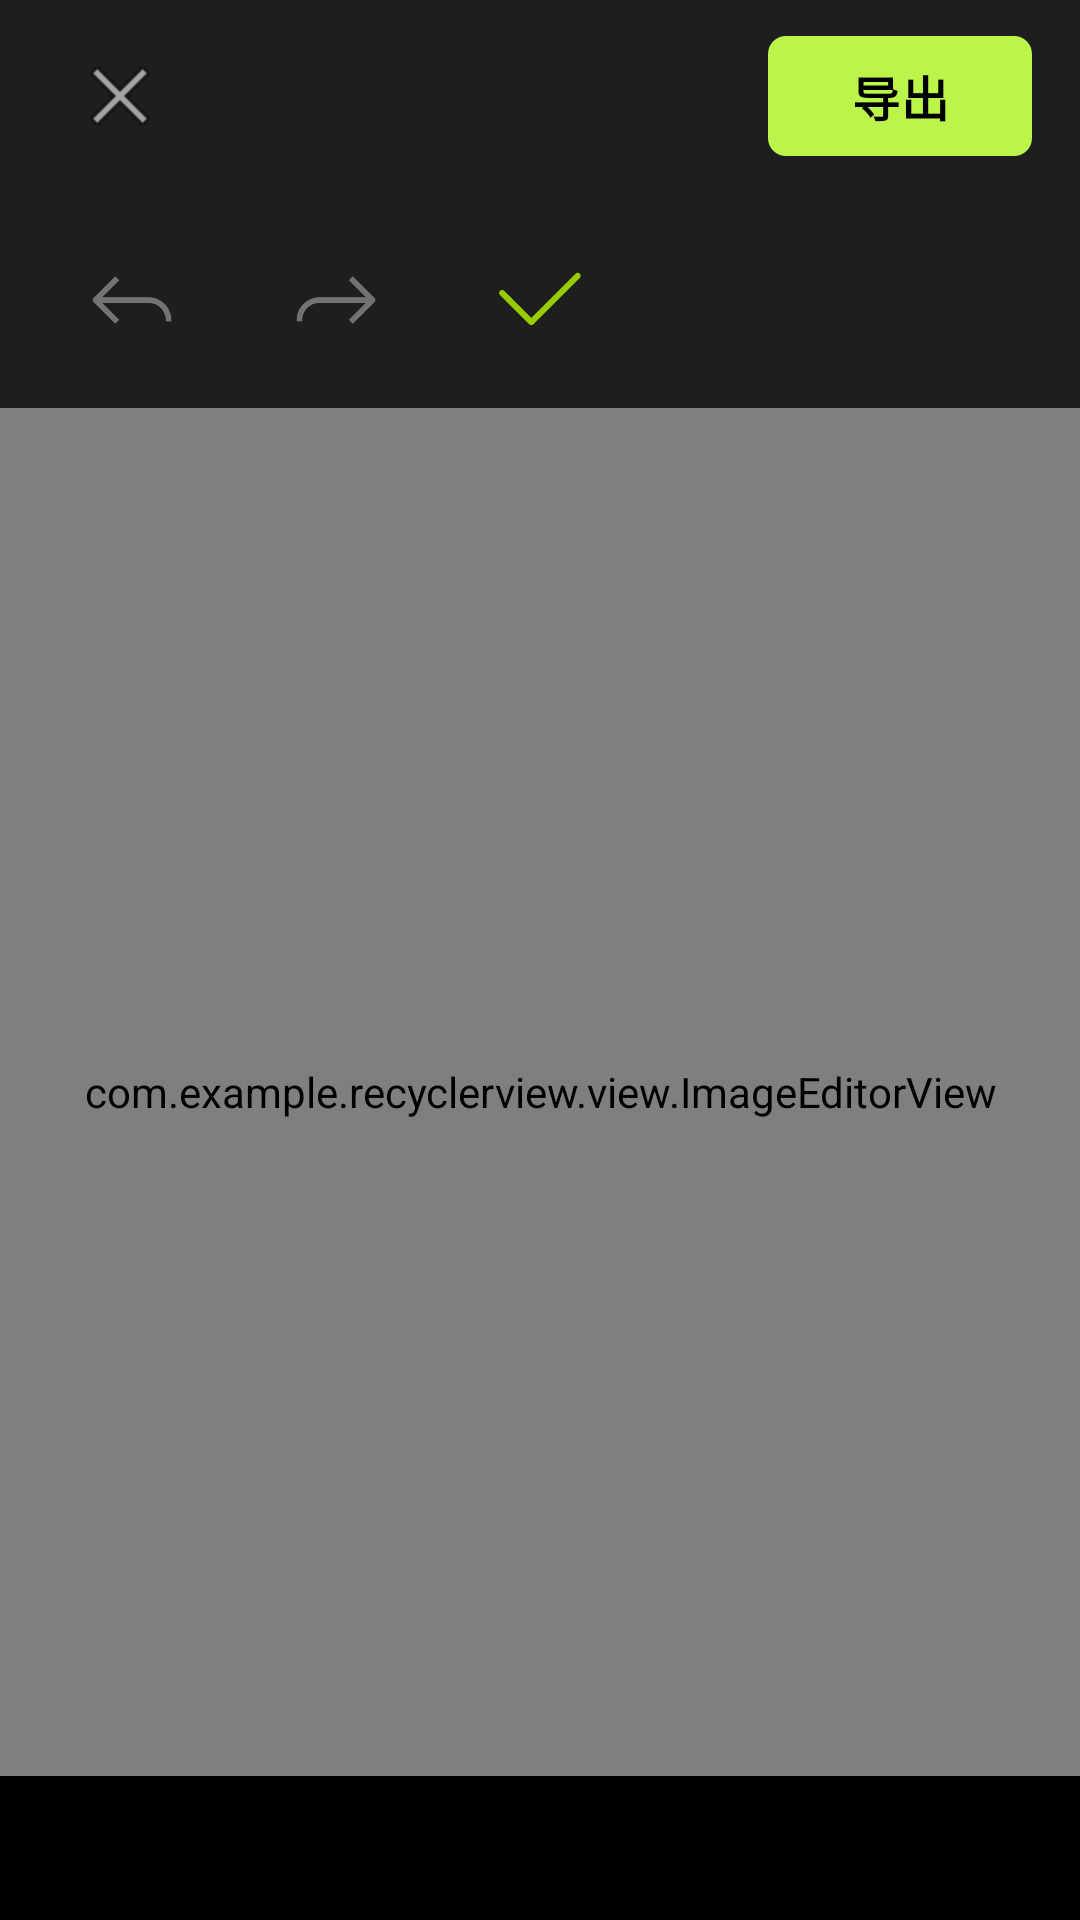

Screen size 1080*1920. Icon name, then its box in pixels as (x1, y1, x2, y2):
应用: (499, 273, 581, 325)
撤销: (93, 276, 172, 324)
返回: (93, 69, 147, 123)
重做: (297, 276, 375, 324)
